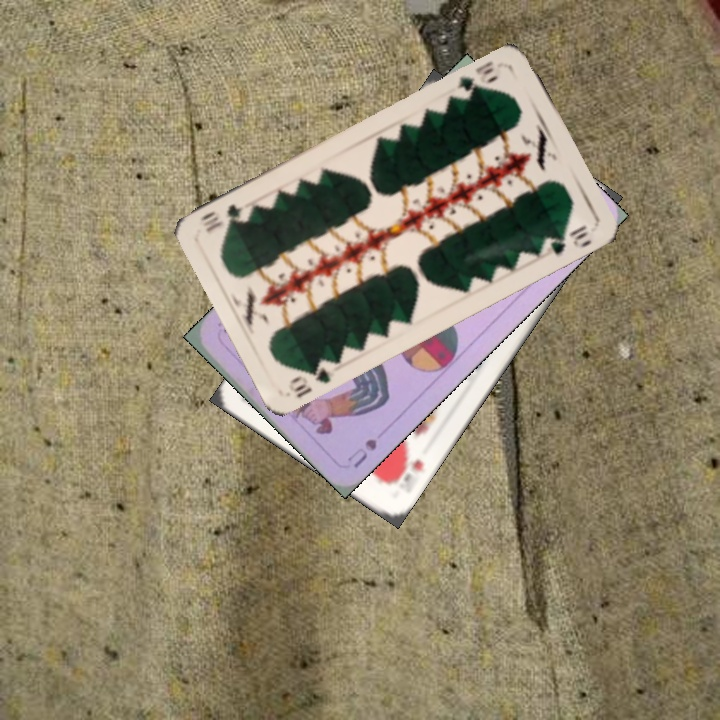G10: (284, 355, 335, 401), (452, 58, 501, 103)
HK: (385, 450, 427, 489)
SU: (343, 434, 380, 471)
